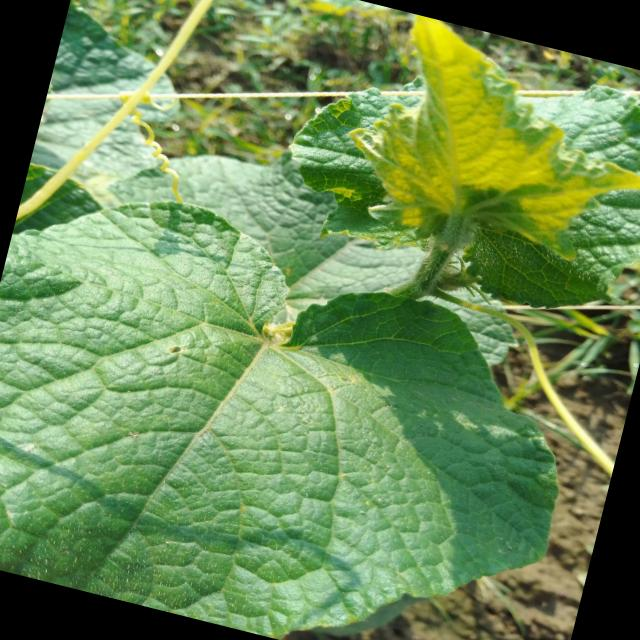cucumber_healthy: (0, 159, 612, 640), (256, 14, 640, 341), (324, 4, 640, 288), (26, 0, 207, 208)
